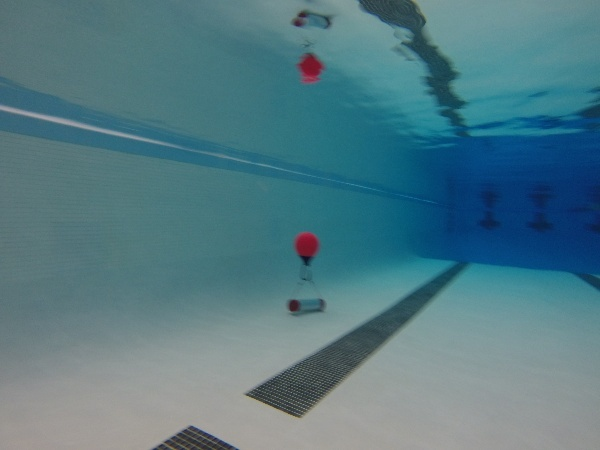buoy_red: (292, 230, 321, 266)
